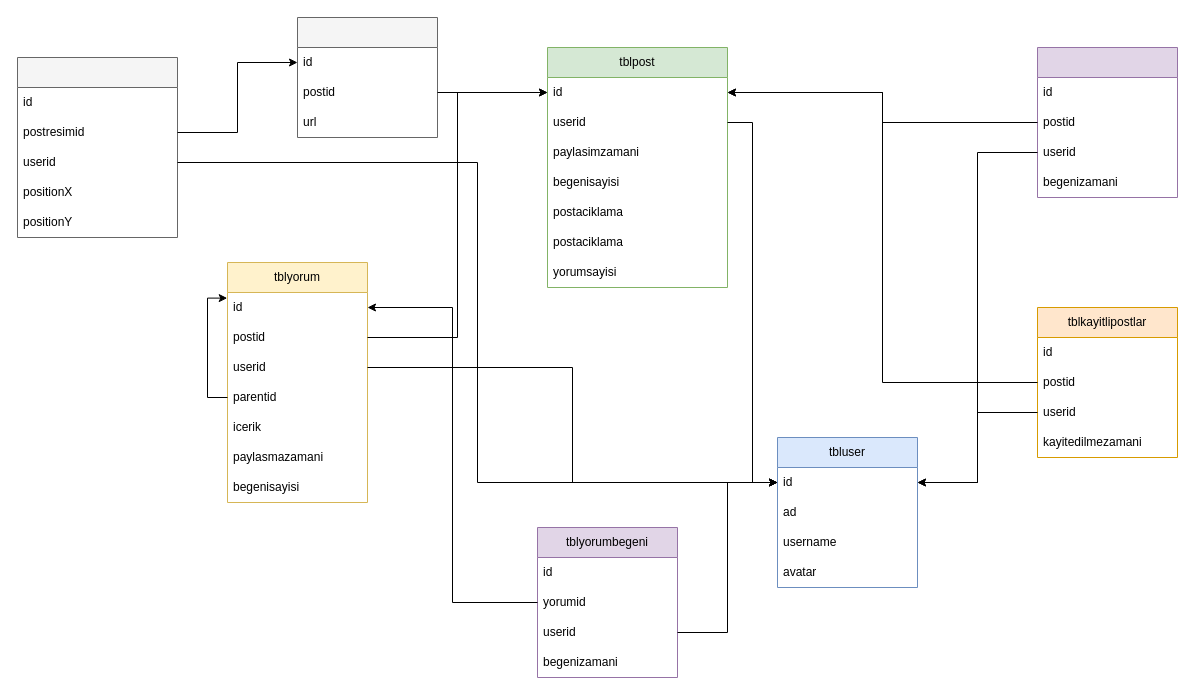
This 1195x695 diagram has some shape labels left out. Each missing label, with the box of its shape:
tblbegeni: (1036, 46, 1178, 198)
tblpost_resim_position: (16, 56, 178, 238)
tblpostresim: (296, 16, 438, 138)
